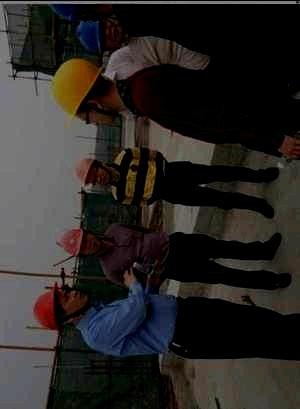helmet: (49, 58, 118, 127), (32, 281, 89, 331), (75, 20, 124, 54), (58, 228, 101, 258), (72, 157, 111, 188), (48, 4, 100, 22)
